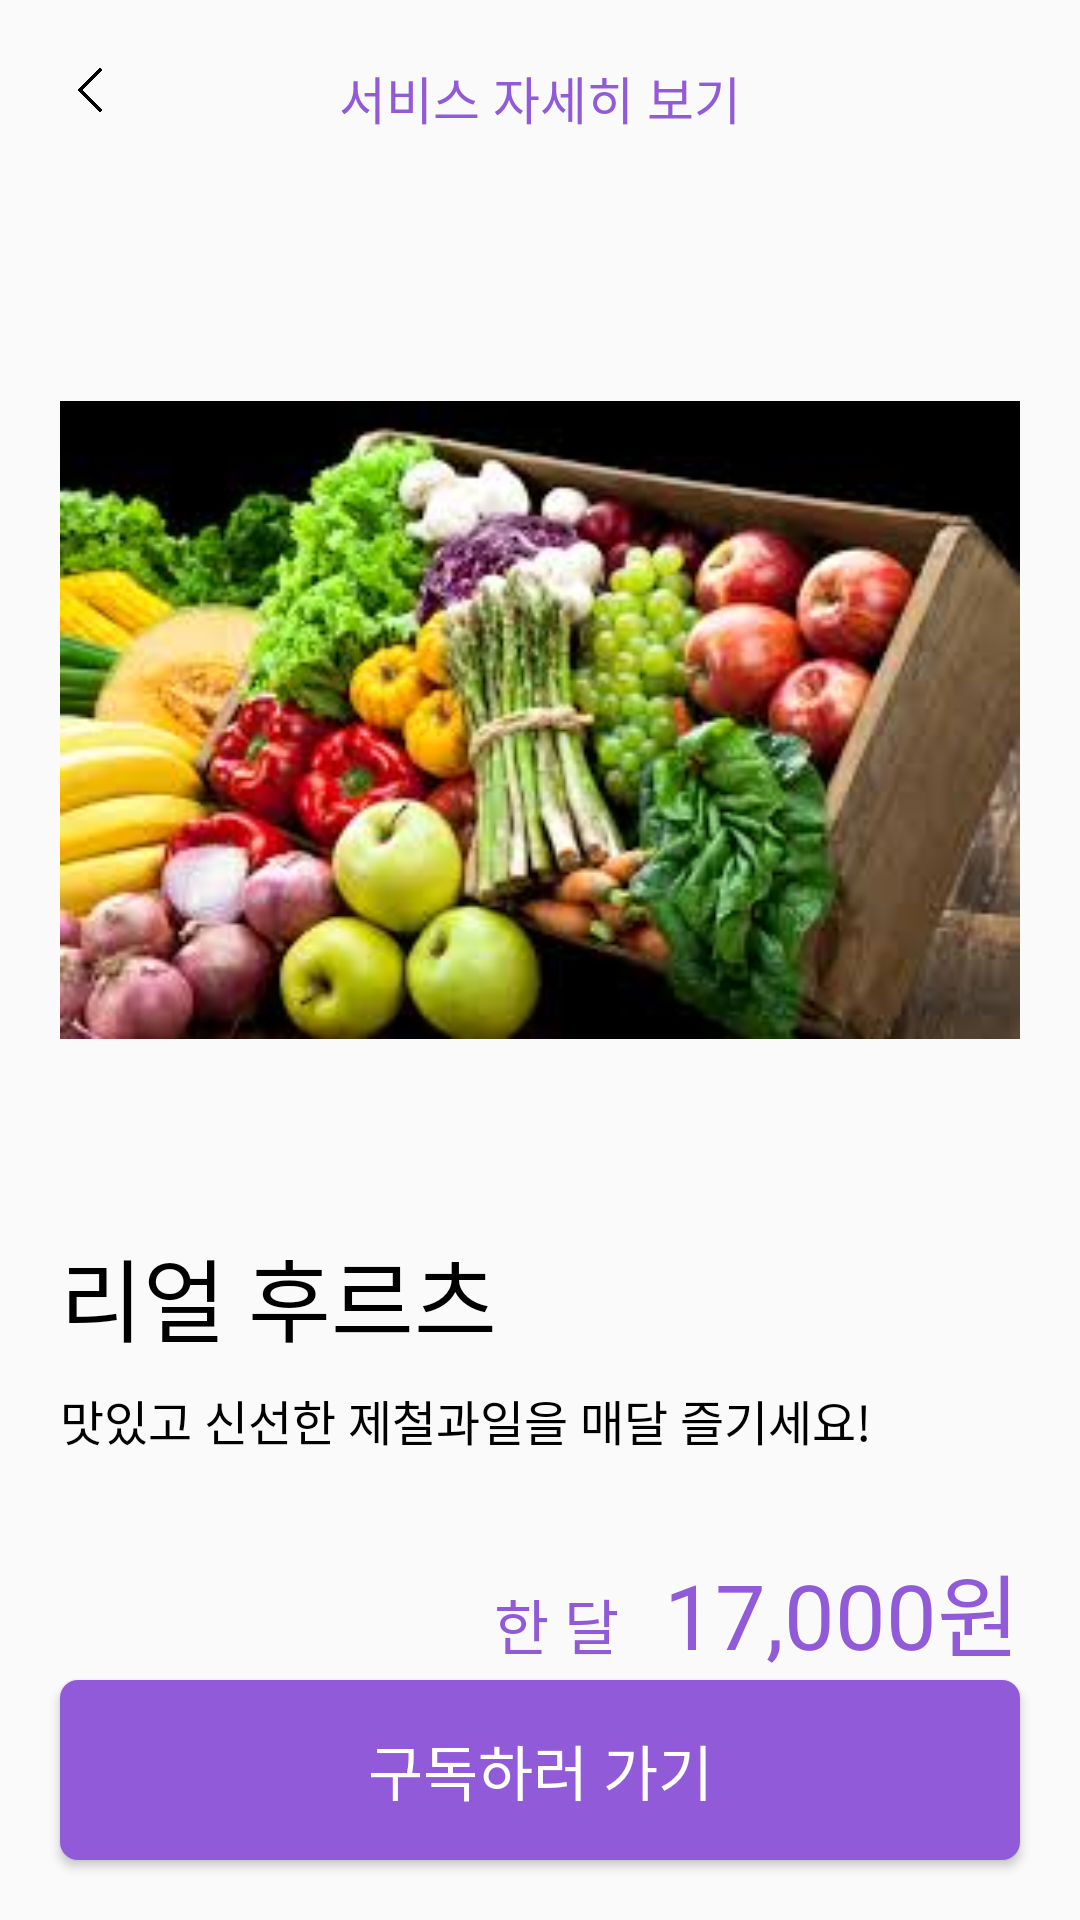

Icon click points for this 1080px×1920px phone screenshot, format (x=x, y=y):
back: (x=90, y=90)
